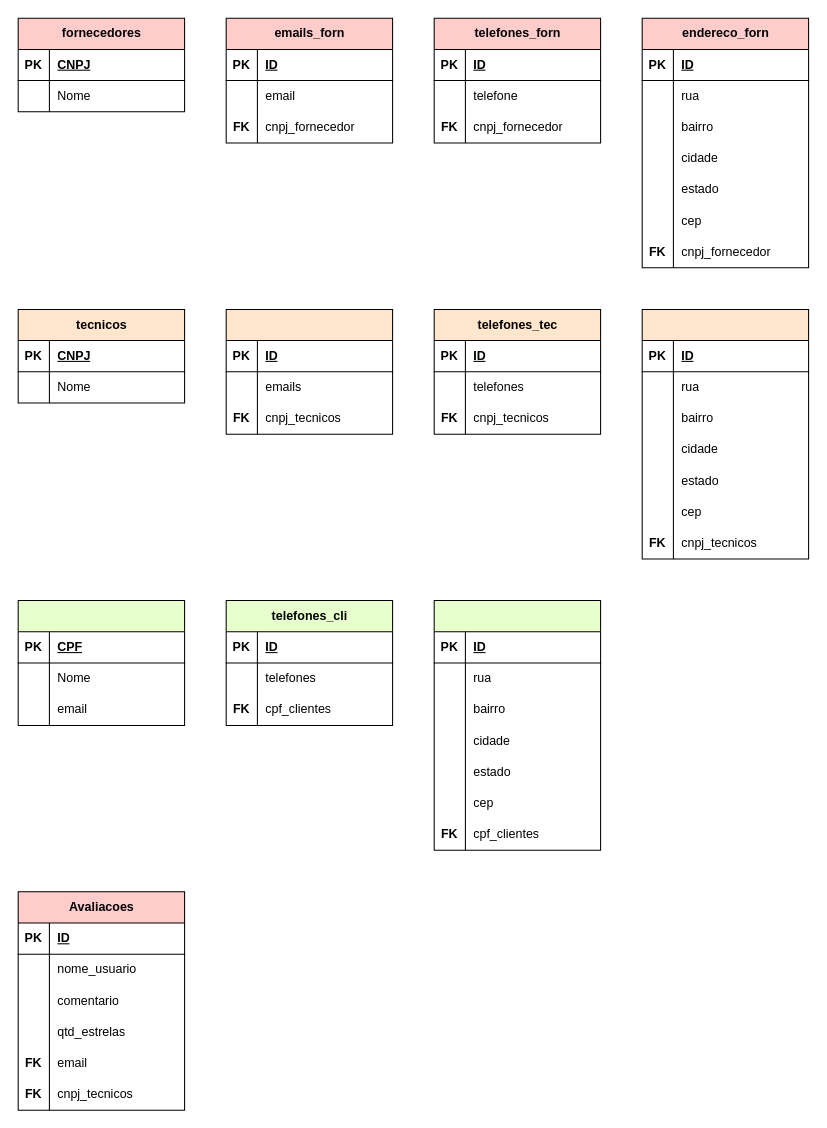
The diagram is 827 pixels wide and 1128 high, and some of its shapes have lost their labels. Each missing label, with the box of its shape:
clientes: (17, 600, 185, 725)
emails_tec: (225, 308, 393, 434)
endereco_cli: (433, 600, 601, 850)
endereco_tec: (641, 308, 809, 559)
